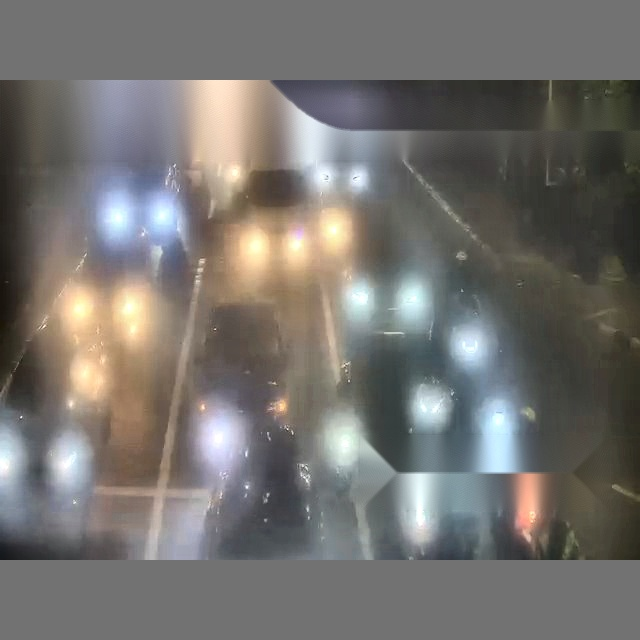Mobil: (6, 397, 143, 548), (183, 292, 302, 411), (102, 148, 220, 263), (232, 161, 321, 273)
